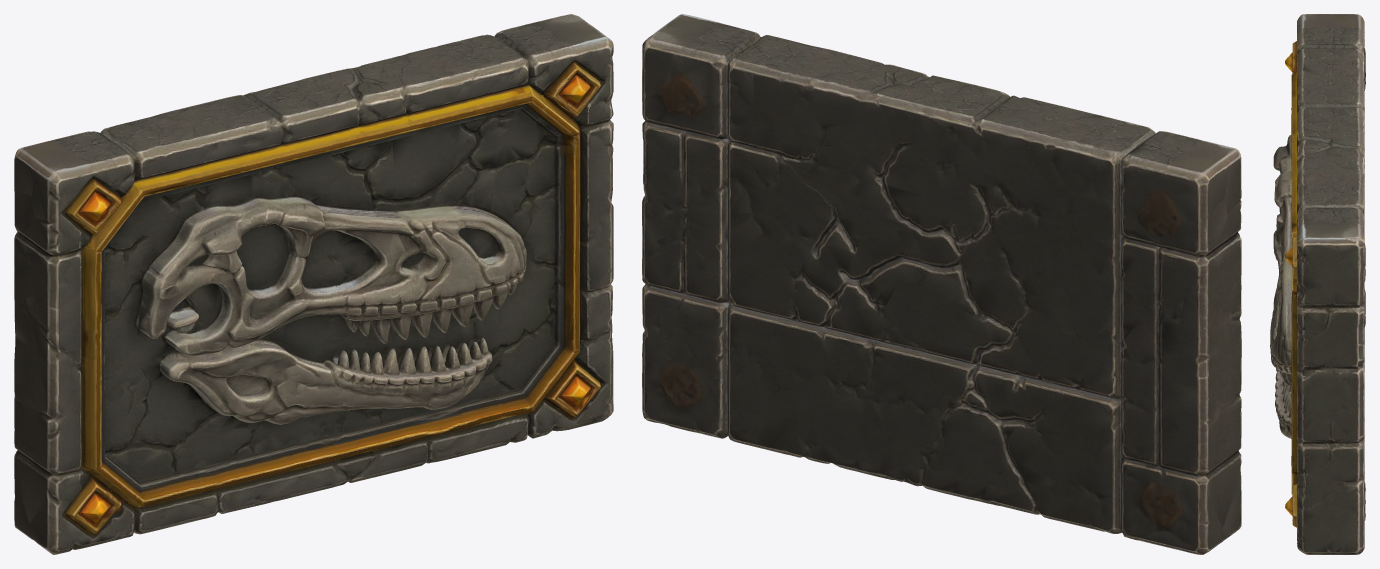
The model's file is wall-panel.glb.
3 renders of one model, left to right at view 1: azimuth 30°, elevation 25°; view 2: azimuth 150°, elevation 25°; view 3: azimuth 270°, elevation 25°, orthographic. The views are drawn at different scales.
Visible parts, largest first — view 1: mesh_node; view 2: mesh_node; view 3: mesh_node.
Part boxes in pixels (x1,y1,x2,y2): mesh_node: (14, 14, 613, 554); mesh_node: (642, 14, 1241, 554); mesh_node: (1270, 14, 1365, 554).
Bounding box in the file's own units: 1.9 × 1.23 × 0.3364.
1 material, 1 textured.
